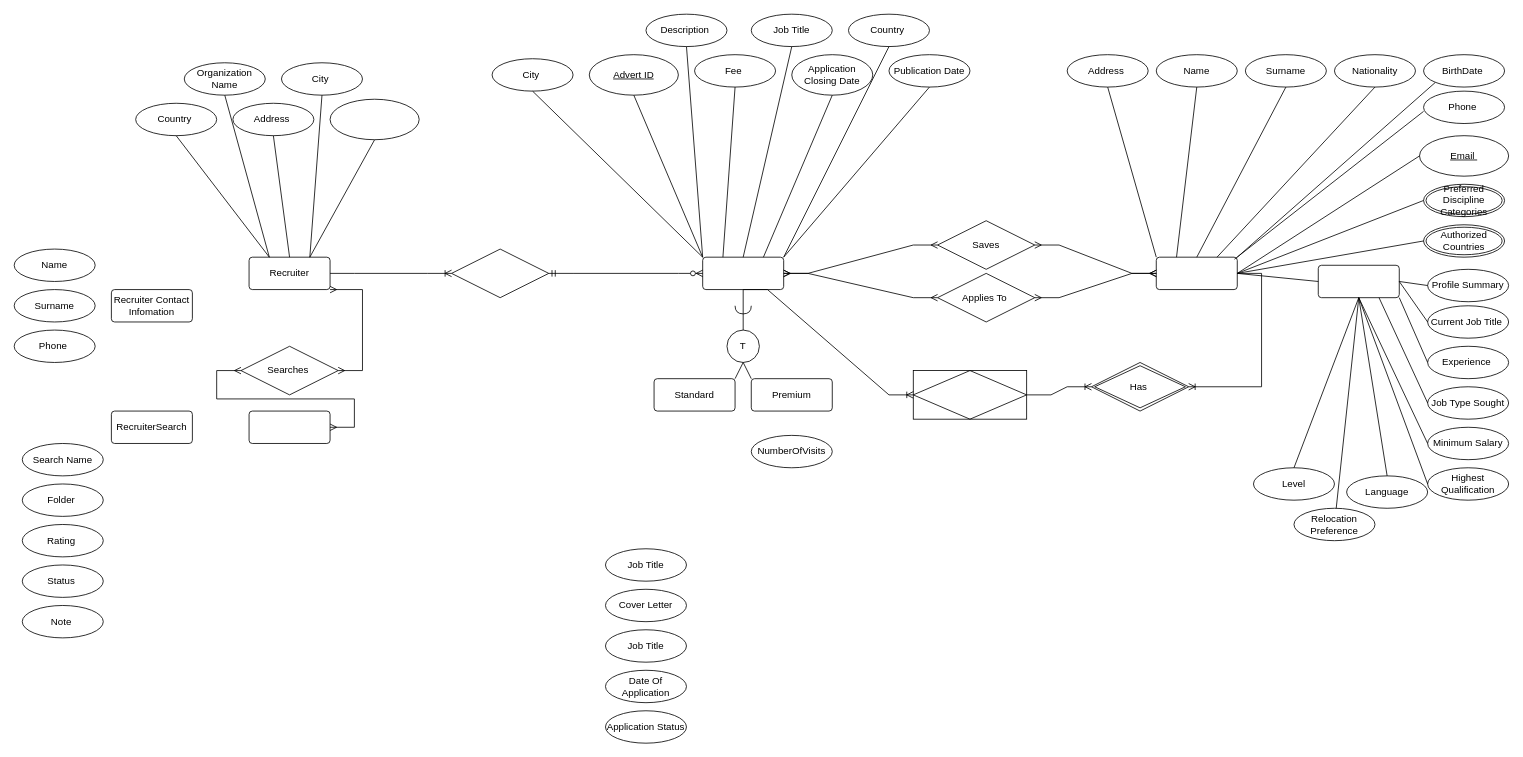
Image size: 1523x757. Some labels were removed from this diagram. The centre of each missing label's shape, as x and y in pixels:
"Application History" goes at (969,394).
"Job Advert" goes at (743,273).
"JobSeeker" goes at (1196,273).
"JobSeeker Resume" goes at (1358,281).
"Organization Registration Number" goes at (374,119).
"Posts" goes at (500,273).
"Resume" goes at (289,426).
